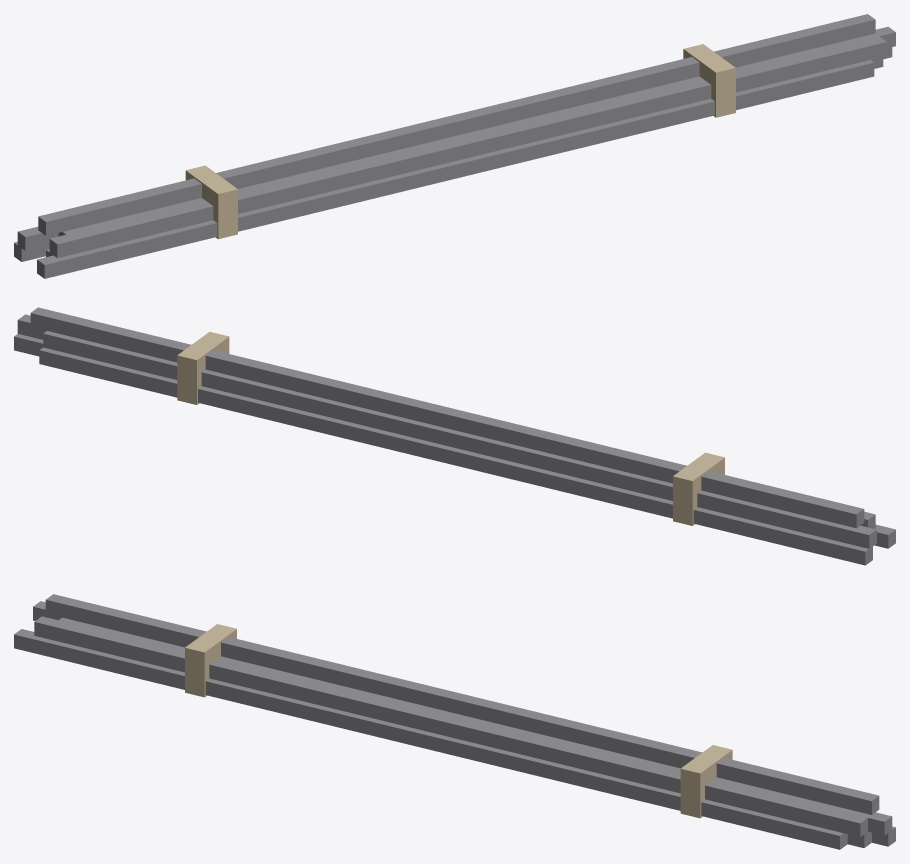
File: prop-nail-blank-rod-stack.fbx
The picture shows the model from 3 angles, top to bottom: view 1: azimuth 30°, elevation 25°; view 2: azimuth 150°, elevation 25°; view 3: azimuth 330°, elevation 25°; orthographic projection.
Parts seen in each view (by area): view 1: prop-nail-blank-rod-stack; view 2: prop-nail-blank-rod-stack; view 3: prop-nail-blank-rod-stack.
Part boxes in pixels (bbox=[...]): prop-nail-blank-rod-stack: bbox=[14, 14, 895, 278]; prop-nail-blank-rod-stack: bbox=[14, 307, 895, 565]; prop-nail-blank-rod-stack: bbox=[14, 594, 895, 849].
Size of the model in its own units: 52 by 2.6 by 3.4.
